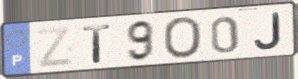0: (208, 15, 242, 54)
9: (124, 18, 156, 62)
J: (253, 11, 284, 51)
O: (162, 15, 204, 60)
T: (80, 23, 114, 65)
Z: (34, 25, 75, 70)
